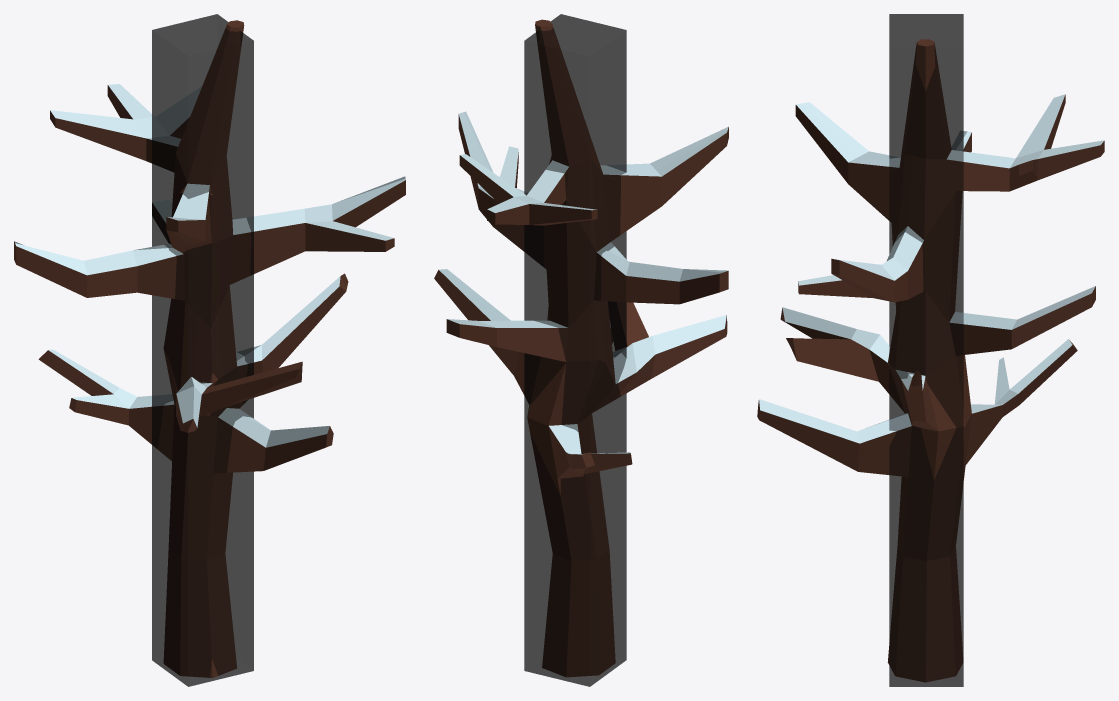
File: DeadTree_Snow_Small.fbx
The picture shows the model from 3 angles, left to right: view 1: azimuth 30°, elevation 25°; view 2: azimuth 150°, elevation 25°; view 3: azimuth 270°, elevation 25°; orthographic projection.
Parts seen in each view (by area): view 1: DeadTreeSnow_Small, DeadTreeSnow_Small_BBox; view 2: DeadTreeSnow_Small, DeadTreeSnow_Small_BBox; view 3: DeadTreeSnow_Small, DeadTreeSnow_Small_BBox.
Part boxes in pixels (x1,y1,x2,y2): DeadTreeSnow_Small: (14, 20, 405, 677); DeadTreeSnow_Small_BBox: (152, 14, 253, 686); DeadTreeSnow_Small: (434, 19, 728, 677); DeadTreeSnow_Small_BBox: (524, 14, 626, 686); DeadTreeSnow_Small: (757, 39, 1104, 682); DeadTreeSnow_Small_BBox: (889, 14, 963, 686).
Bounding box in the file's own units: 12.25 × 22.51 × 11.
Materials: 2 (1 with a texture image).
